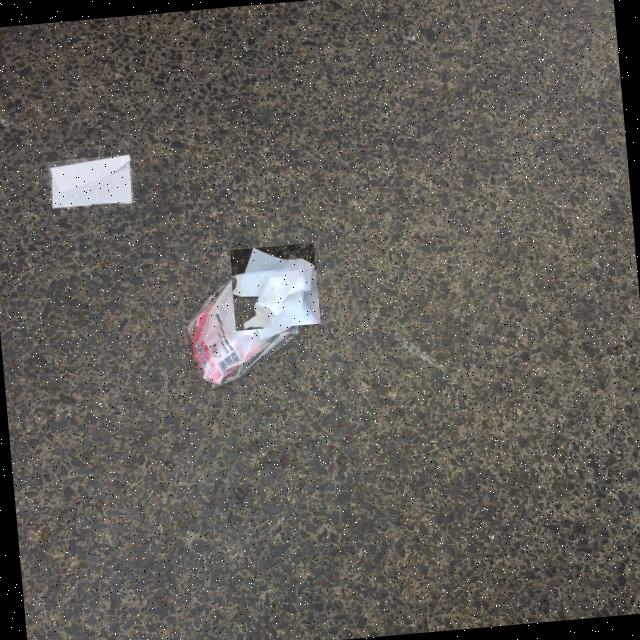Plastic film: (188, 276, 303, 388)
Tissues: (234, 248, 315, 330), (50, 155, 132, 209)
